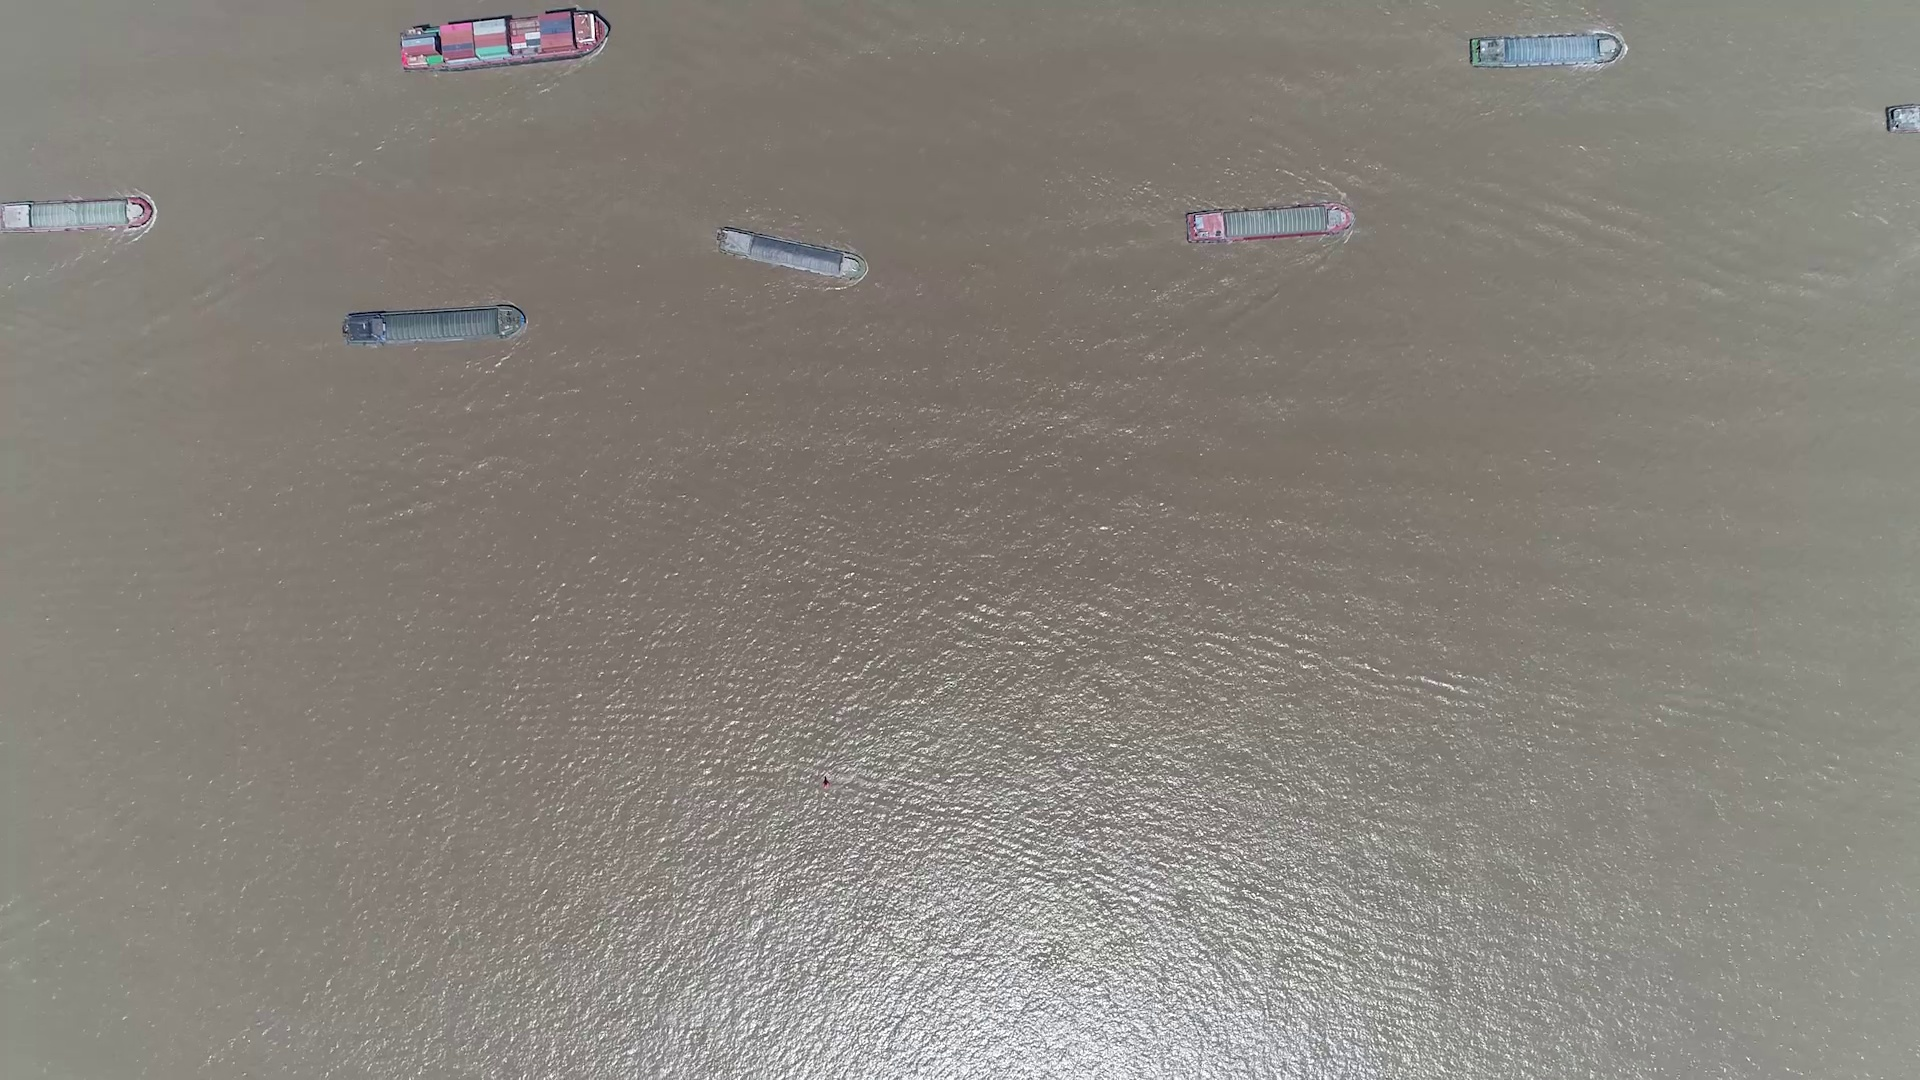ship: (397, 11, 608, 70), (716, 225, 865, 280), (343, 307, 524, 345), (1185, 204, 1356, 243), (1469, 33, 1622, 69), (1, 200, 154, 231)
